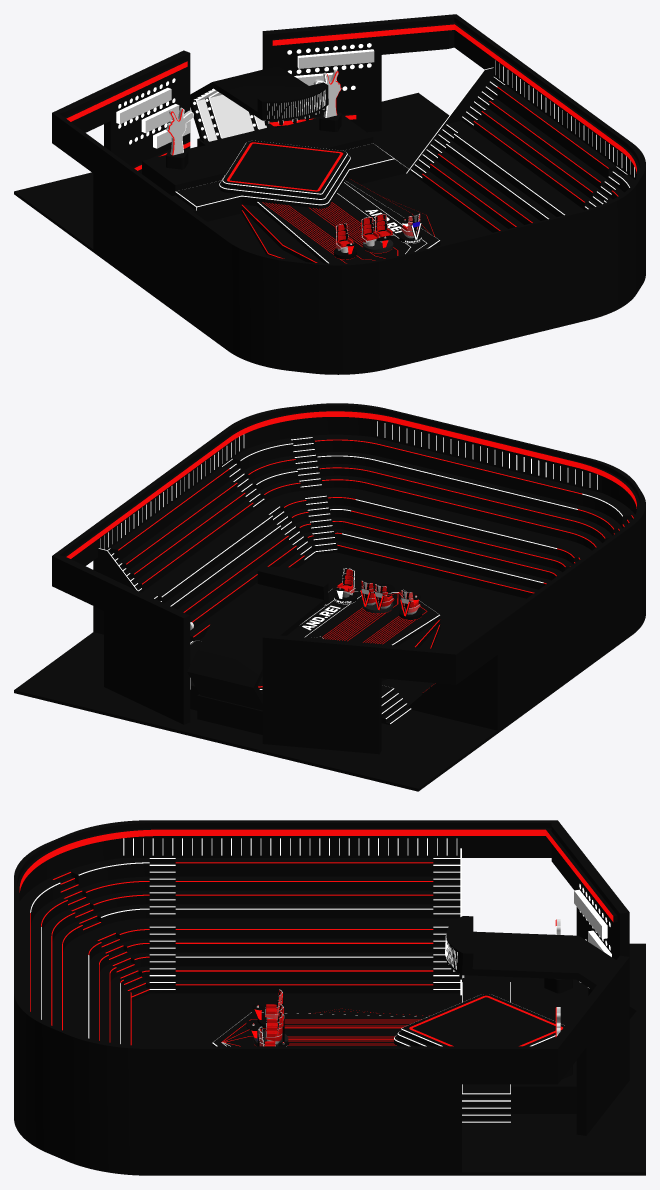
The model's file is the_voice_kids_stage.glb.
3 views of the same model, one above another, from view 1: azimuth 30°, elevation 25°; view 2: azimuth 150°, elevation 25°; view 3: azimuth 270°, elevation 25° (orthographic). The views are drawn at different scales.
Visible parts, largest first — view 1: Object_34, Object_37, Object_32, Object_33, Object_28, Object_36, Object_38, Object_31, Object_12, Object_11, Object_40, Object_41 (+10 smaller); view 2: Object_34, Object_33, Object_37, Object_28, Object_32, Object_35, Object_38, Object_12, Object_43, Object_42, Object_10, Object_9 (+2 smaller); view 3: Object_34, Object_33, Object_35, Object_37, Object_32, Object_28, Object_12, Object_31, Object_11, Object_40, Object_36, Object_14 (+8 smaller).
Part boxes in pixels (x1,y1,x2,y2): Object_34: (14, 87, 645, 374); Object_37: (59, 17, 640, 254); Object_32: (142, 66, 440, 263); Object_33: (52, 14, 645, 265); Object_28: (65, 32, 408, 221); Object_36: (248, 30, 448, 368); Object_38: (93, 97, 613, 350); Object_31: (142, 102, 426, 262); Object_12: (269, 24, 636, 230); Object_11: (66, 61, 434, 263); Object_40: (116, 49, 627, 210); Object_41: (196, 89, 439, 263); Object_34: (14, 456, 643, 791); Object_33: (52, 403, 645, 692); Object_37: (59, 406, 626, 753); Object_28: (14, 556, 456, 791); Object_32: (187, 566, 440, 734); Object_35: (248, 440, 632, 730); Object_38: (123, 438, 631, 730); Object_12: (66, 411, 636, 637); Object_43: (98, 421, 597, 643); Object_42: (170, 443, 622, 606); Object_10: (258, 497, 565, 687); Object_9: (319, 439, 613, 557); Object_34: (14, 842, 645, 1175); Object_33: (14, 820, 629, 1048); Object_35: (31, 859, 617, 1000); Object_37: (41, 829, 586, 1135); Object_32: (212, 916, 636, 1046); Object_28: (394, 826, 629, 1135); Object_12: (19, 829, 556, 1028); Object_31: (222, 977, 588, 1086); Object_11: (30, 830, 613, 1046); Object_40: (149, 858, 611, 1122); Object_36: (51, 859, 175, 988); Object_14: (142, 862, 556, 1035).
Size of the model in its own units: 31.17 by 8.09 by 36.4.
